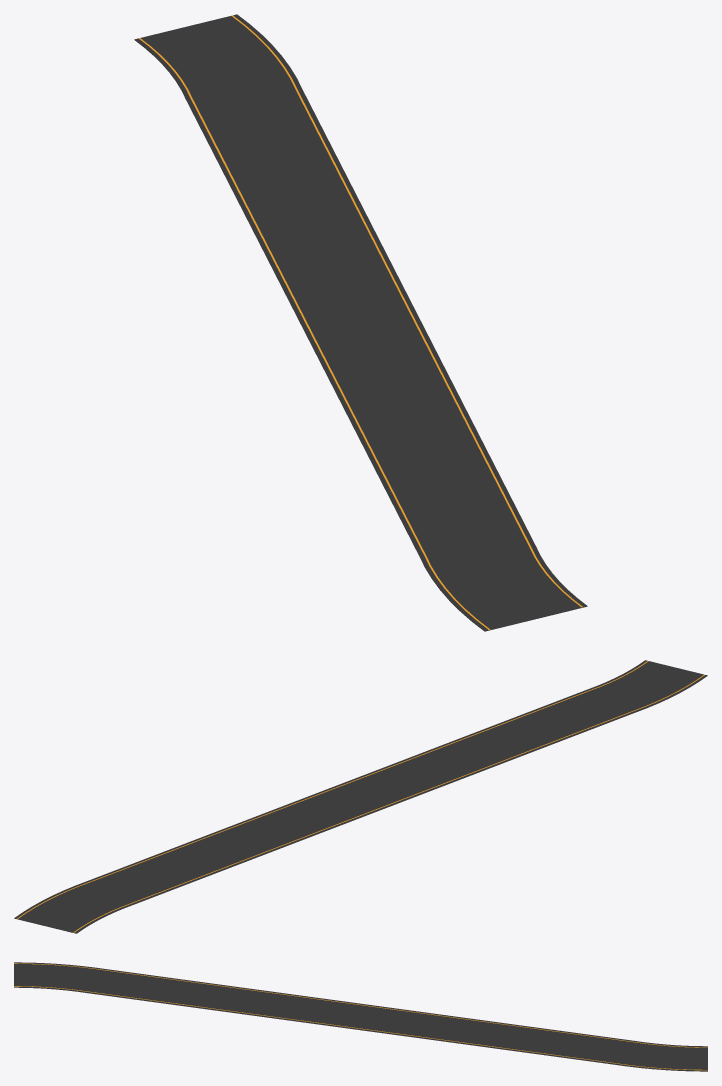
File: SM_Racetrack_Plain_Shift_60x140m.fbx
The picture shows the model from 3 angles, top to bottom: view 1: azimuth 30°, elevation 25°; view 2: azimuth 150°, elevation 25°; view 3: azimuth 270°, elevation 25°; orthographic projection. The views are drawn at different scales.
Visible parts, largest first — view 1: SM_Racetrack_Plain_Shift_60x140m; view 2: SM_Racetrack_Plain_Shift_60x140m; view 3: SM_Racetrack_Plain_Shift_60x140m.
Boxes of the visible parts, bbox=[...] form: SM_Racetrack_Plain_Shift_60x140m: bbox=[134, 14, 587, 631]; SM_Racetrack_Plain_Shift_60x140m: bbox=[14, 660, 707, 933]; SM_Racetrack_Plain_Shift_60x140m: bbox=[14, 962, 707, 1071].
Size of the model in its own units: 52 by 0.05 by 140.
